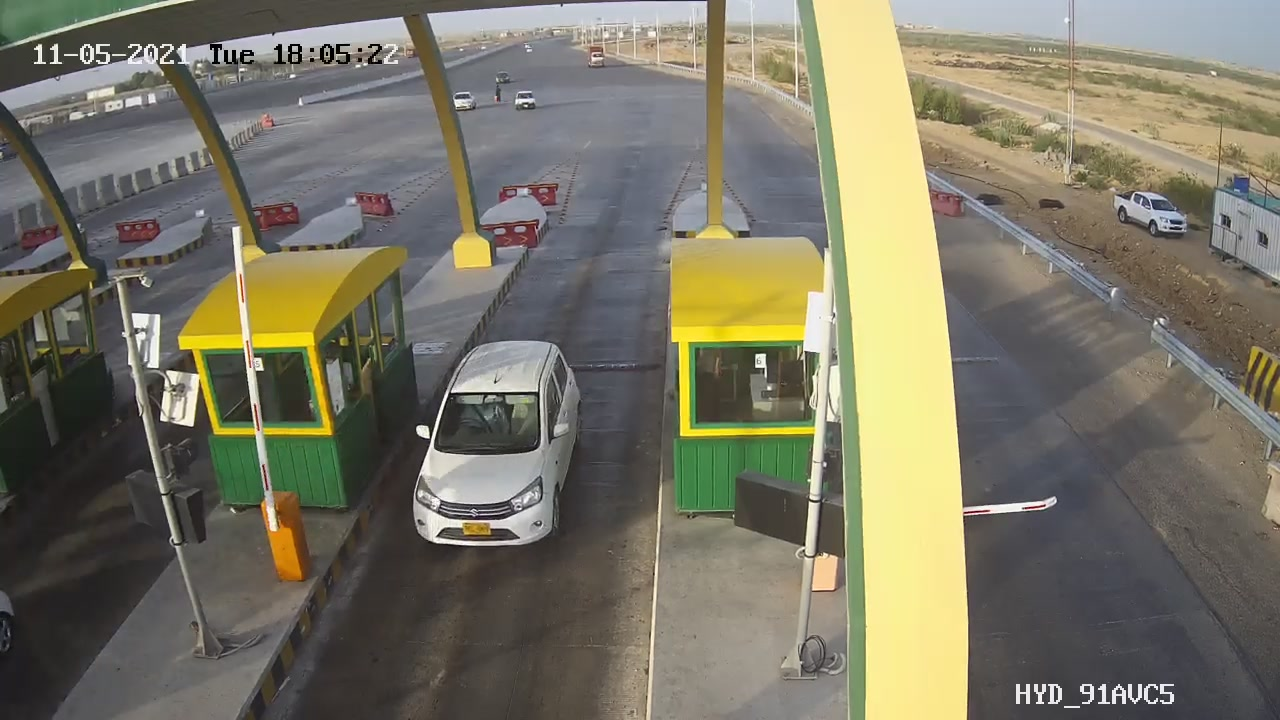F1: (404, 308, 595, 579)
